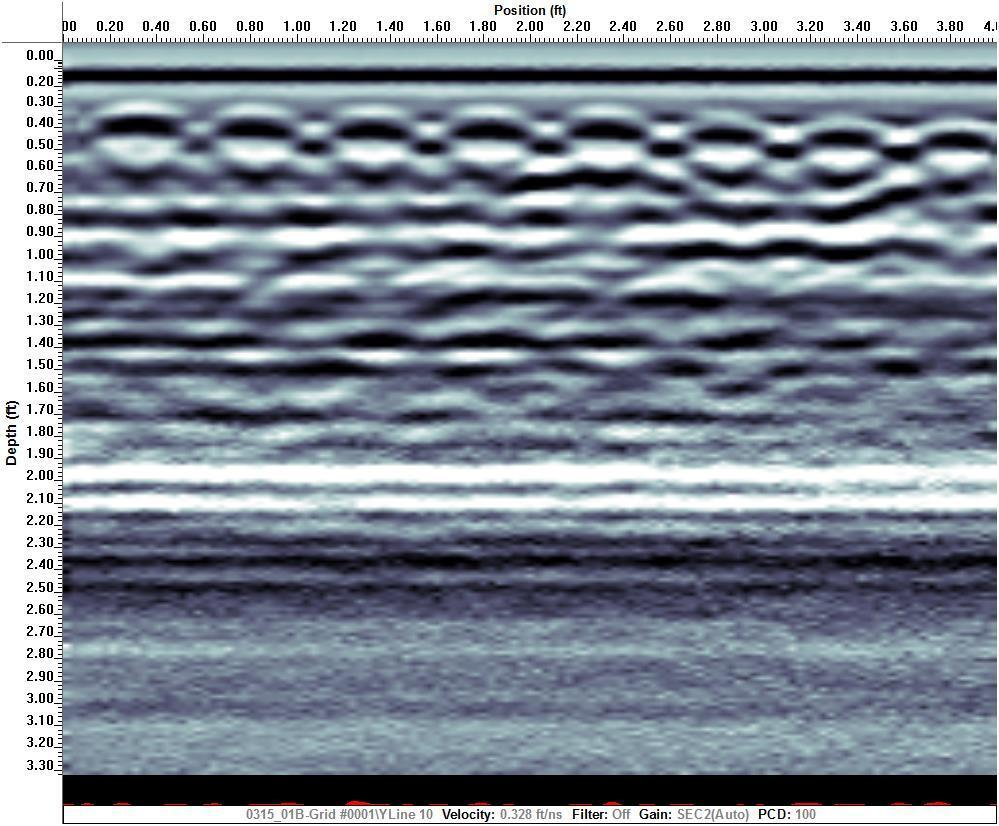hyperbola: (84, 96, 191, 139), (198, 95, 305, 138), (320, 99, 427, 142), (430, 99, 537, 142), (555, 98, 662, 141), (665, 97, 772, 140), (787, 102, 894, 145)
